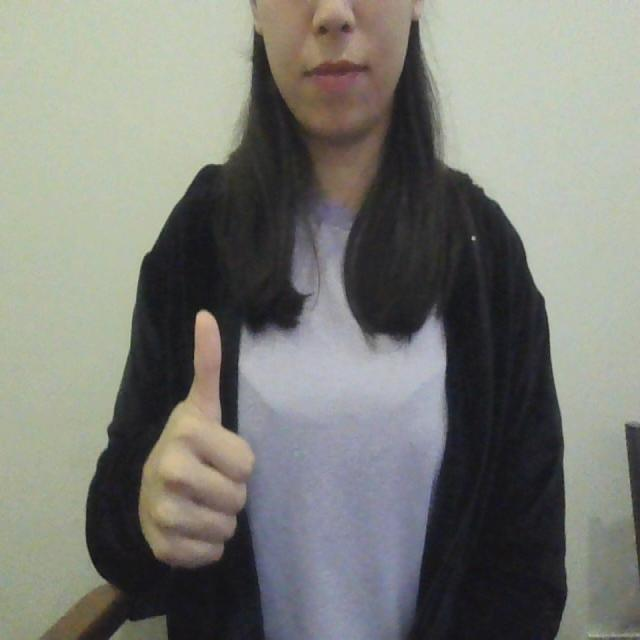Tamam: (133, 298, 262, 586)
